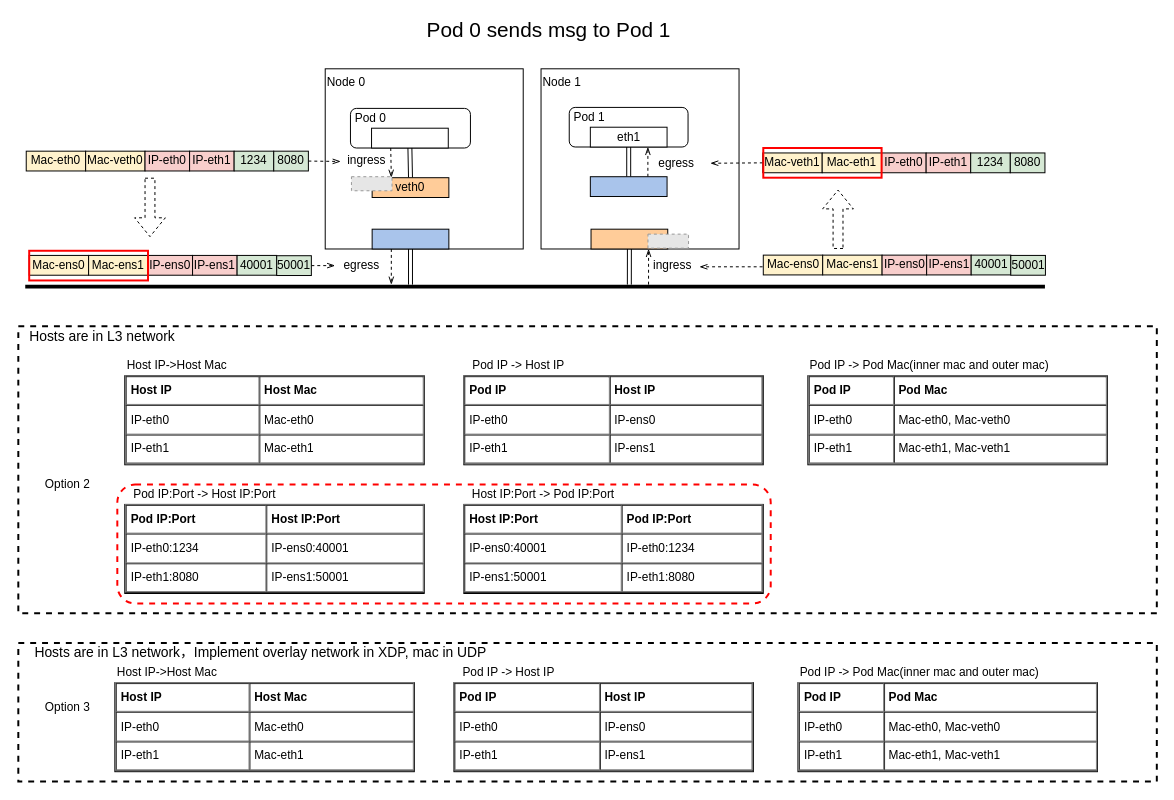
The diagram is 1174 pixels wide and 800 high, and some of its shapes have lost their labels. Grey dashed boxes stand in for pictures. The shapes that lost their labels are listed below. From the top down, each one's centre as x and y in pixels, then its label:
At point 409,137: "eth0".
At point 628,186: "veth1".
At point 410,238: "ens0".
At point 629,238: "ens1".
